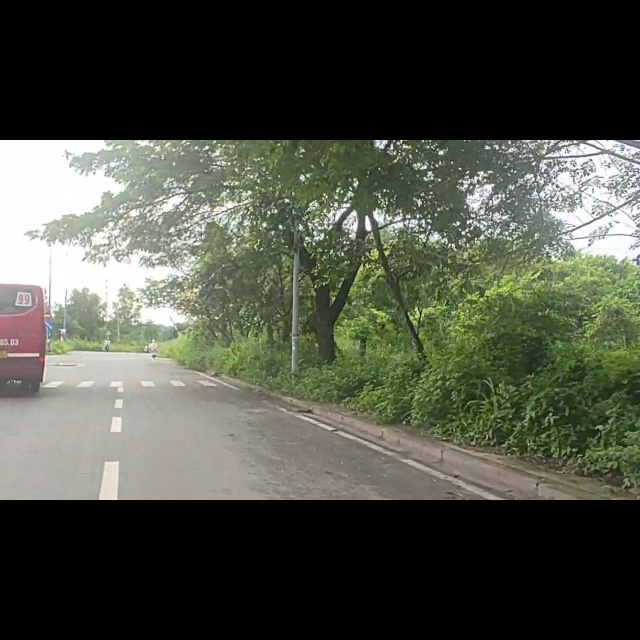bien_hieu_lenh: (43, 321, 55, 337), (45, 302, 53, 318)
